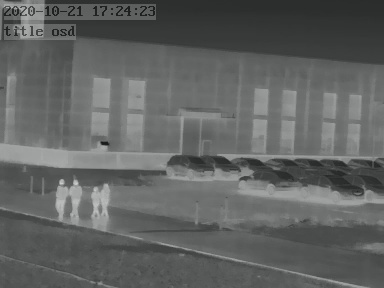person: (69, 179, 83, 222), (54, 179, 66, 220), (89, 185, 100, 219), (101, 183, 109, 218)
vehicle: (301, 170, 365, 201), (238, 169, 299, 195), (164, 153, 212, 179), (204, 153, 242, 177), (350, 173, 383, 200), (233, 155, 269, 171), (262, 155, 296, 169), (348, 156, 379, 170), (318, 156, 347, 169), (296, 156, 324, 169)
